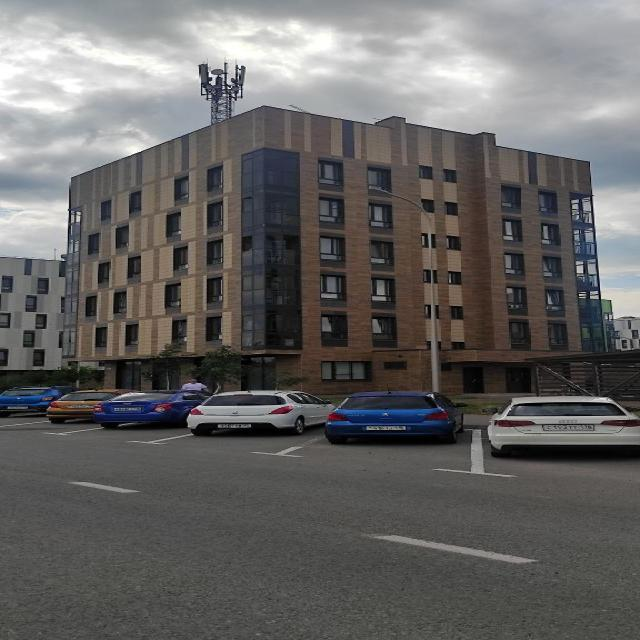Building: (63, 109, 607, 396)
